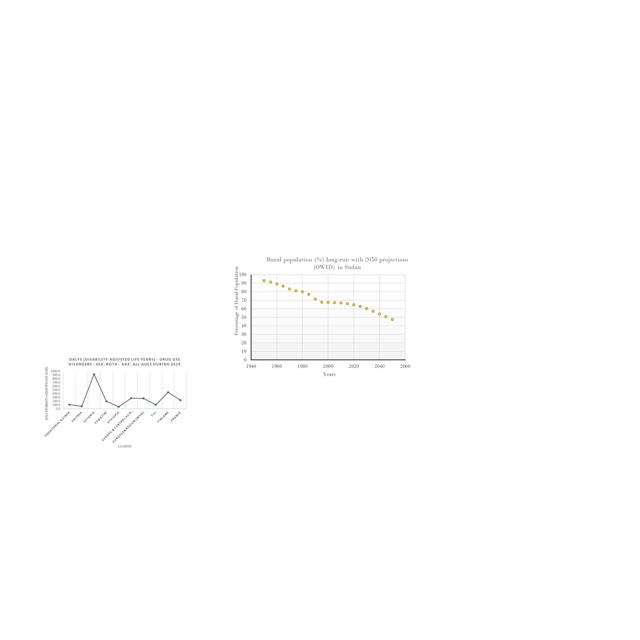Graph: (231, 251, 416, 380), (42, 355, 189, 451)
